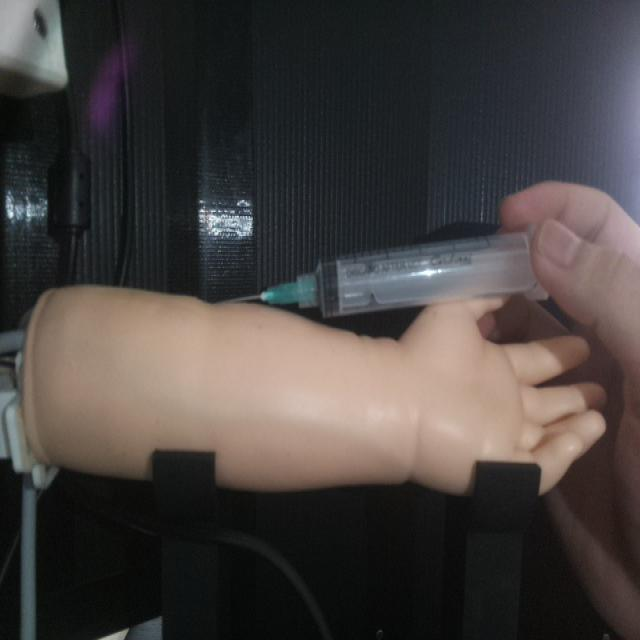Outside: (220, 224, 551, 321)
